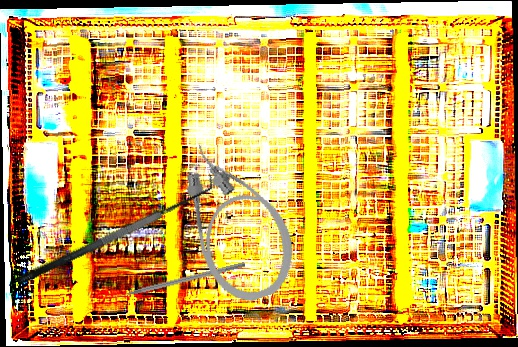Cannula: (169, 127, 307, 311)
Hook Surgical: (106, 260, 246, 303)
Spatula Surgical: (7, 170, 221, 287)
